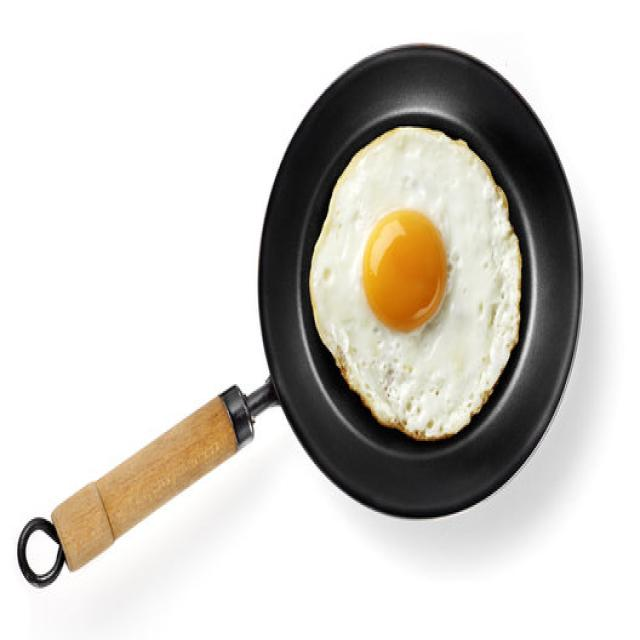Egg: (310, 126, 521, 440)
